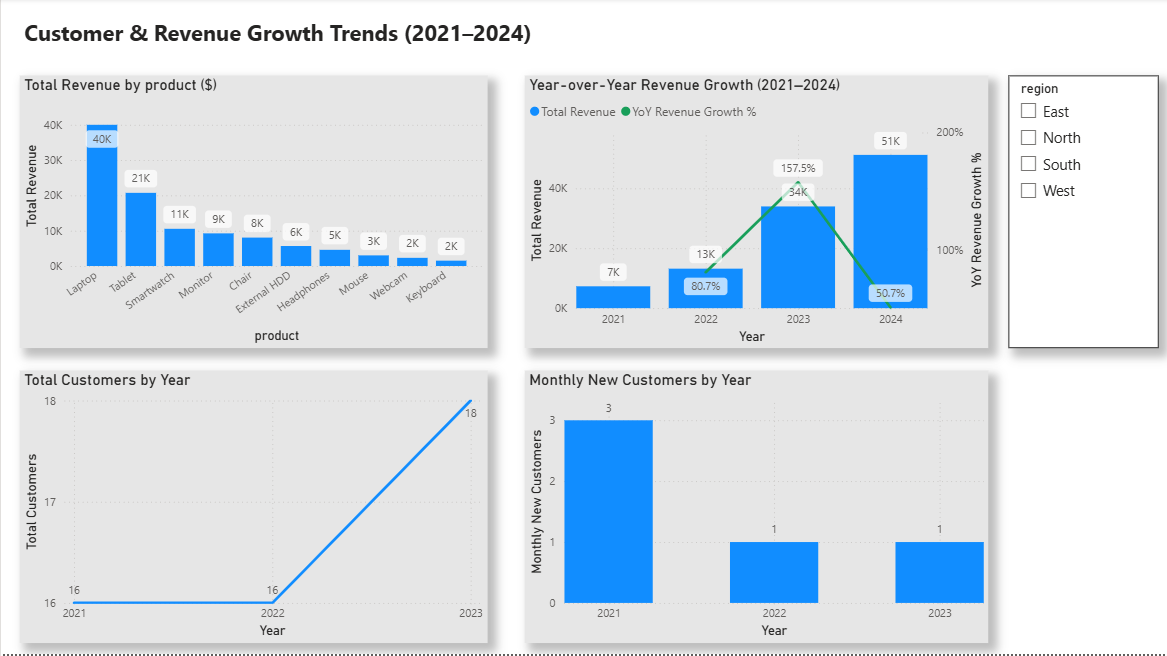

Layout of this report page (visuals, bound fields, positions):
{"tool":"powerbi","page":{"name":"Page 2","canvas":[1280,720],"ordinal":1},"visuals":[{"type":"lineStackedColumnComboChart","title":"Total Revenue by product ($)","fields":{"Category":["sales.product"],"Y":["sales.Total Revenue"]},"box":[20.6,85.1,513.2,299.1],"z":0},{"type":"lineChart","fields":{"Category":["customers.join_date.Variation.Date Hierarchy.Year","customers.join_date.Variation.Date Hierarchy.Quarter","customers.join_date.Variation.Date Hierarchy.Month","customers.join_date.Variation.Date Hierarchy.Day"],"Y":["customers.Total Customers"]},"box":[20.3,408.9,513.2,299.1],"z":1000},{"type":"clusteredColumnChart","fields":{"Category":["customers.join_date.Variation.Date Hierarchy.Year","customers.join_date.Variation.Date Hierarchy.Quarter","customers.join_date.Variation.Date Hierarchy.Month","customers.join_date.Variation.Date Hierarchy.Day"],"Y":["customers.Monthly New Customers"]},"box":[574.7,408.9,509.1,299.1],"z":2000},{"type":"lineStackedColumnComboChart","title":"Year-over-Year Revenue Growth (2021–2024)","fields":{"Category":["sales.sale_date.Variation.Date Hierarchy.Year"],"Y":["sales.Total Revenue"],"Y2":["sales.YoY Revenue Growth %"]},"box":[574.7,85.1,509.1,299.1],"z":3000},{"type":"slicer","fields":{"Values":["customers.region"]},"box":[1106,85.1,164.7,299.1],"z":4000},{"type":"textbox","box":[20.6,16.5,573.6,50.8],"z":4001}]}

Visuals, with their boxes in screenshot pixels (x1, y1, x2, y2), scaled from the page's 1280x720 canvas onto the 1167x656 screenshot:
"Total Revenue by product ($)" lineStackedColumnComboChart: bbox=(19, 78, 487, 350)
lineChart - customers.join_date.Variation.Date Hierarchy.Year x customers.join_date.Variation.Date Hierarchy.Quarter: bbox=(19, 373, 486, 645)
clusteredColumnChart - customers.join_date.Variation.Date Hierarchy.Year x customers.join_date.Variation.Date Hierarchy.Quarter: bbox=(524, 373, 988, 645)
"Year-over-Year Revenue Growth (2021–2024)" lineStackedColumnComboChart: bbox=(524, 78, 988, 350)
slicer - customers.region: bbox=(1008, 78, 1159, 350)
textbox: bbox=(19, 15, 542, 61)
